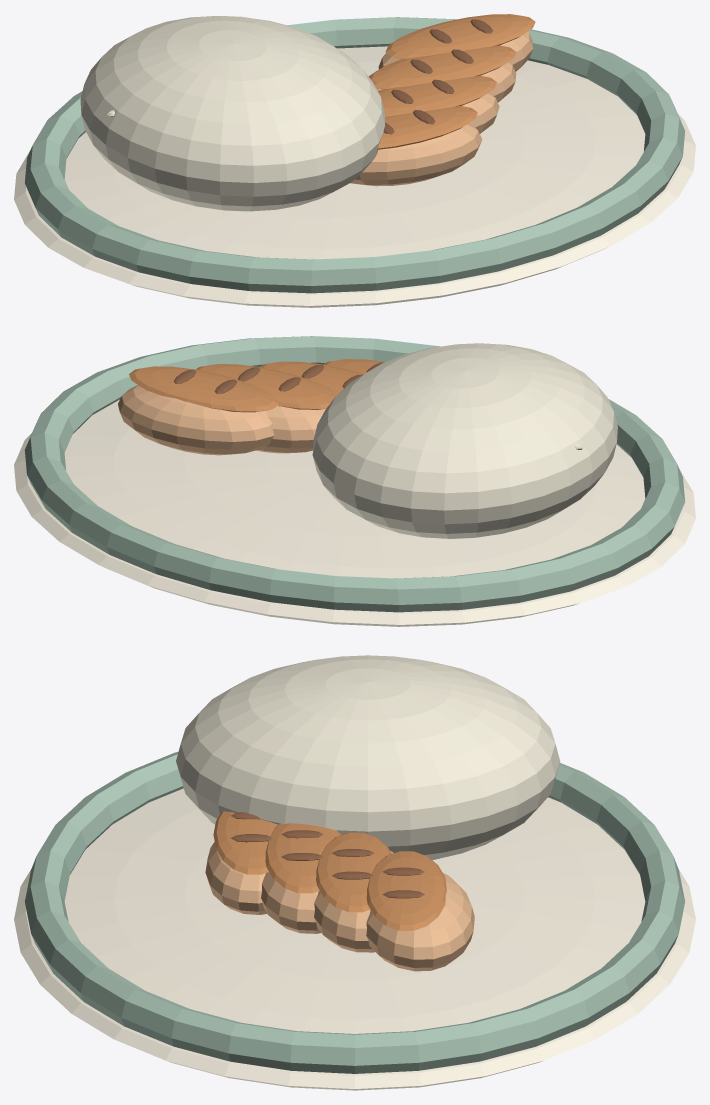
Rendered from portioned_chicken_rice.glb.
The picture shows the model from 3 angles, top to bottom: view 1: azimuth 30°, elevation 25°; view 2: azimuth 150°, elevation 25°; view 3: azimuth 270°, elevation 25°; orthographic projection. The views are drawn at different scales.
Visible parts, largest first — view 1: chicken_rice_portion_plate_base, warm_rice_mound, chicken_rice_portion_plate_rolled_rim, just_sliced_chicken_0, golden_skin_3, golden_skin_2, golden_skin_1, golden_skin_0, just_sliced_chicken_3, just_sliced_chicken_1, just_sliced_chicken_2; view 2: chicken_rice_portion_plate_base, warm_rice_mound, chicken_rice_portion_plate_rolled_rim, just_sliced_chicken_3, golden_skin_3, golden_skin_2, just_sliced_chicken_2, golden_skin_1, golden_skin_0; view 3: chicken_rice_portion_plate_base, warm_rice_mound, chicken_rice_portion_plate_rolled_rim, just_sliced_chicken_3, golden_skin_3, golden_skin_2, golden_skin_1, golden_skin_0, just_sliced_chicken_0, just_sliced_chicken_1, just_sliced_chicken_2.
Boxes of the visible parts, <box> form: chicken_rice_portion_plate_base: <box>14,46,695,307</box>; warm_rice_mound: <box>80,16,385,211</box>; chicken_rice_portion_plate_rolled_rim: <box>25,17,685,293</box>; just_sliced_chicken_0: <box>350,123,482,186</box>; golden_skin_3: <box>385,14,535,58</box>; golden_skin_2: <box>368,45,516,89</box>; golden_skin_1: <box>378,75,496,116</box>; golden_skin_0: <box>377,106,477,149</box>; just_sliced_chicken_3: <box>378,32,533,71</box>; just_sliced_chicken_1: <box>462,92,499,133</box>; just_sliced_chicken_2: <box>376,62,516,102</box>; chicken_rice_portion_plate_base: <box>14,399,695,626</box>; warm_rice_mound: <box>312,343,617,538</box>; chicken_rice_portion_plate_rolled_rim: <box>24,336,684,612</box>; just_sliced_chicken_3: <box>118,385,274,455</box>; golden_skin_3: <box>129,366,278,412</box>; golden_skin_2: <box>196,364,337,409</box>; just_sliced_chicken_2: <box>256,406,325,453</box>; golden_skin_1: <box>260,361,363,393</box>; golden_skin_0: <box>324,359,384,373</box>; chicken_rice_portion_plate_base: <box>14,788,695,1090</box>; warm_rice_mound: <box>176,655,560,860</box>; chicken_rice_portion_plate_rolled_rim: <box>24,751,685,1073</box>; just_sliced_chicken_3: <box>366,872,474,971</box>; golden_skin_3: <box>366,851,446,930</box>; golden_skin_2: <box>316,832,391,912</box>; golden_skin_1: <box>265,823,340,893</box>; golden_skin_0: <box>213,811,277,874</box>; just_sliced_chicken_0: <box>205,842,266,914</box>; just_sliced_chicken_1: <box>261,872,320,933</box>; just_sliced_chicken_2: <box>314,850,393,952</box>.
Size of the model in its own units: 0.856 by 0.237 by 0.7276.
